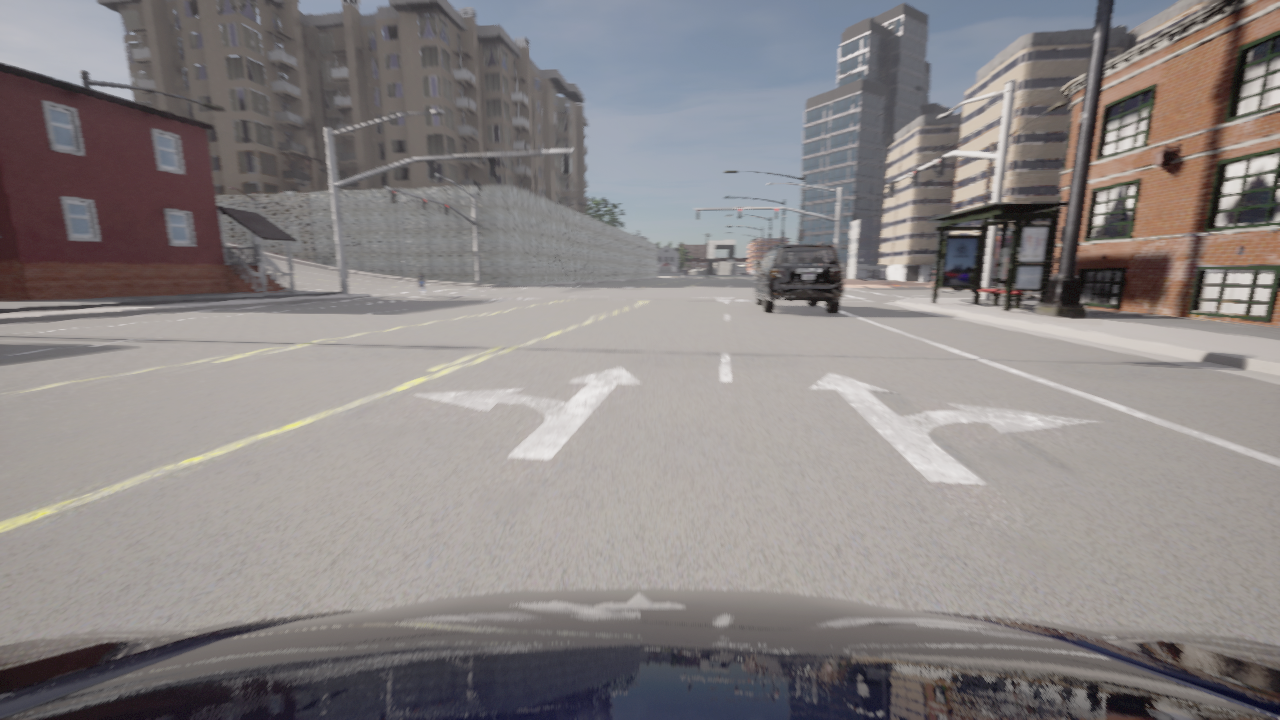cyclist: (0, 588, 1279, 719), (755, 244, 843, 314), (932, 229, 1000, 292)
pedestrian: (418, 272, 425, 294)
